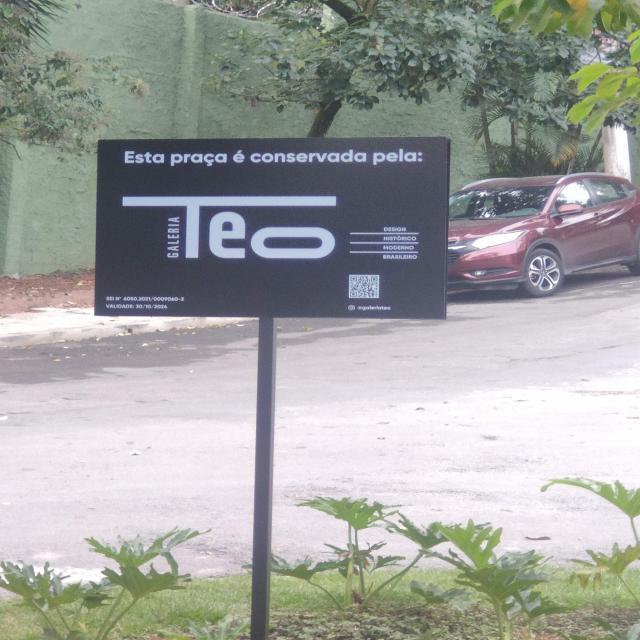qrcode: (352, 277, 379, 298)
